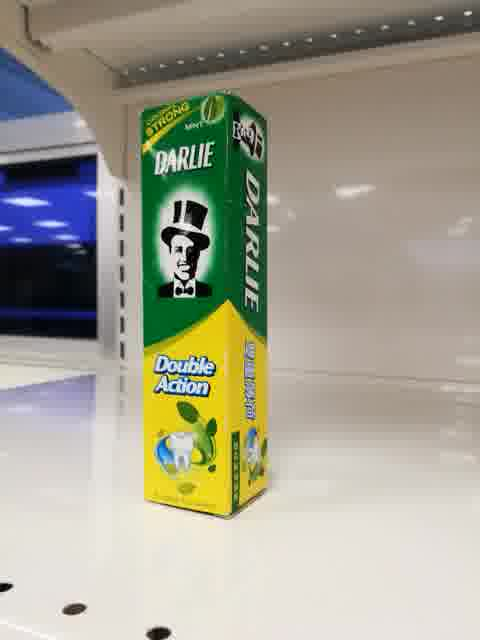toothpaste: (139, 88, 270, 522)
